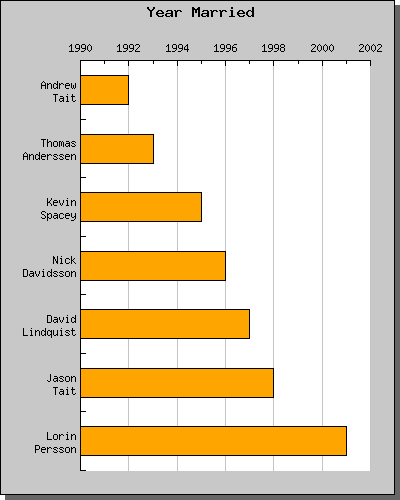canvas: (86, 62, 372, 471)
title: (142, 2, 262, 21)
x-axis: (74, 57, 375, 68)
x-labels: (65, 40, 384, 55)
y-axis: (75, 57, 86, 472)
y-labels: (19, 70, 78, 467)
